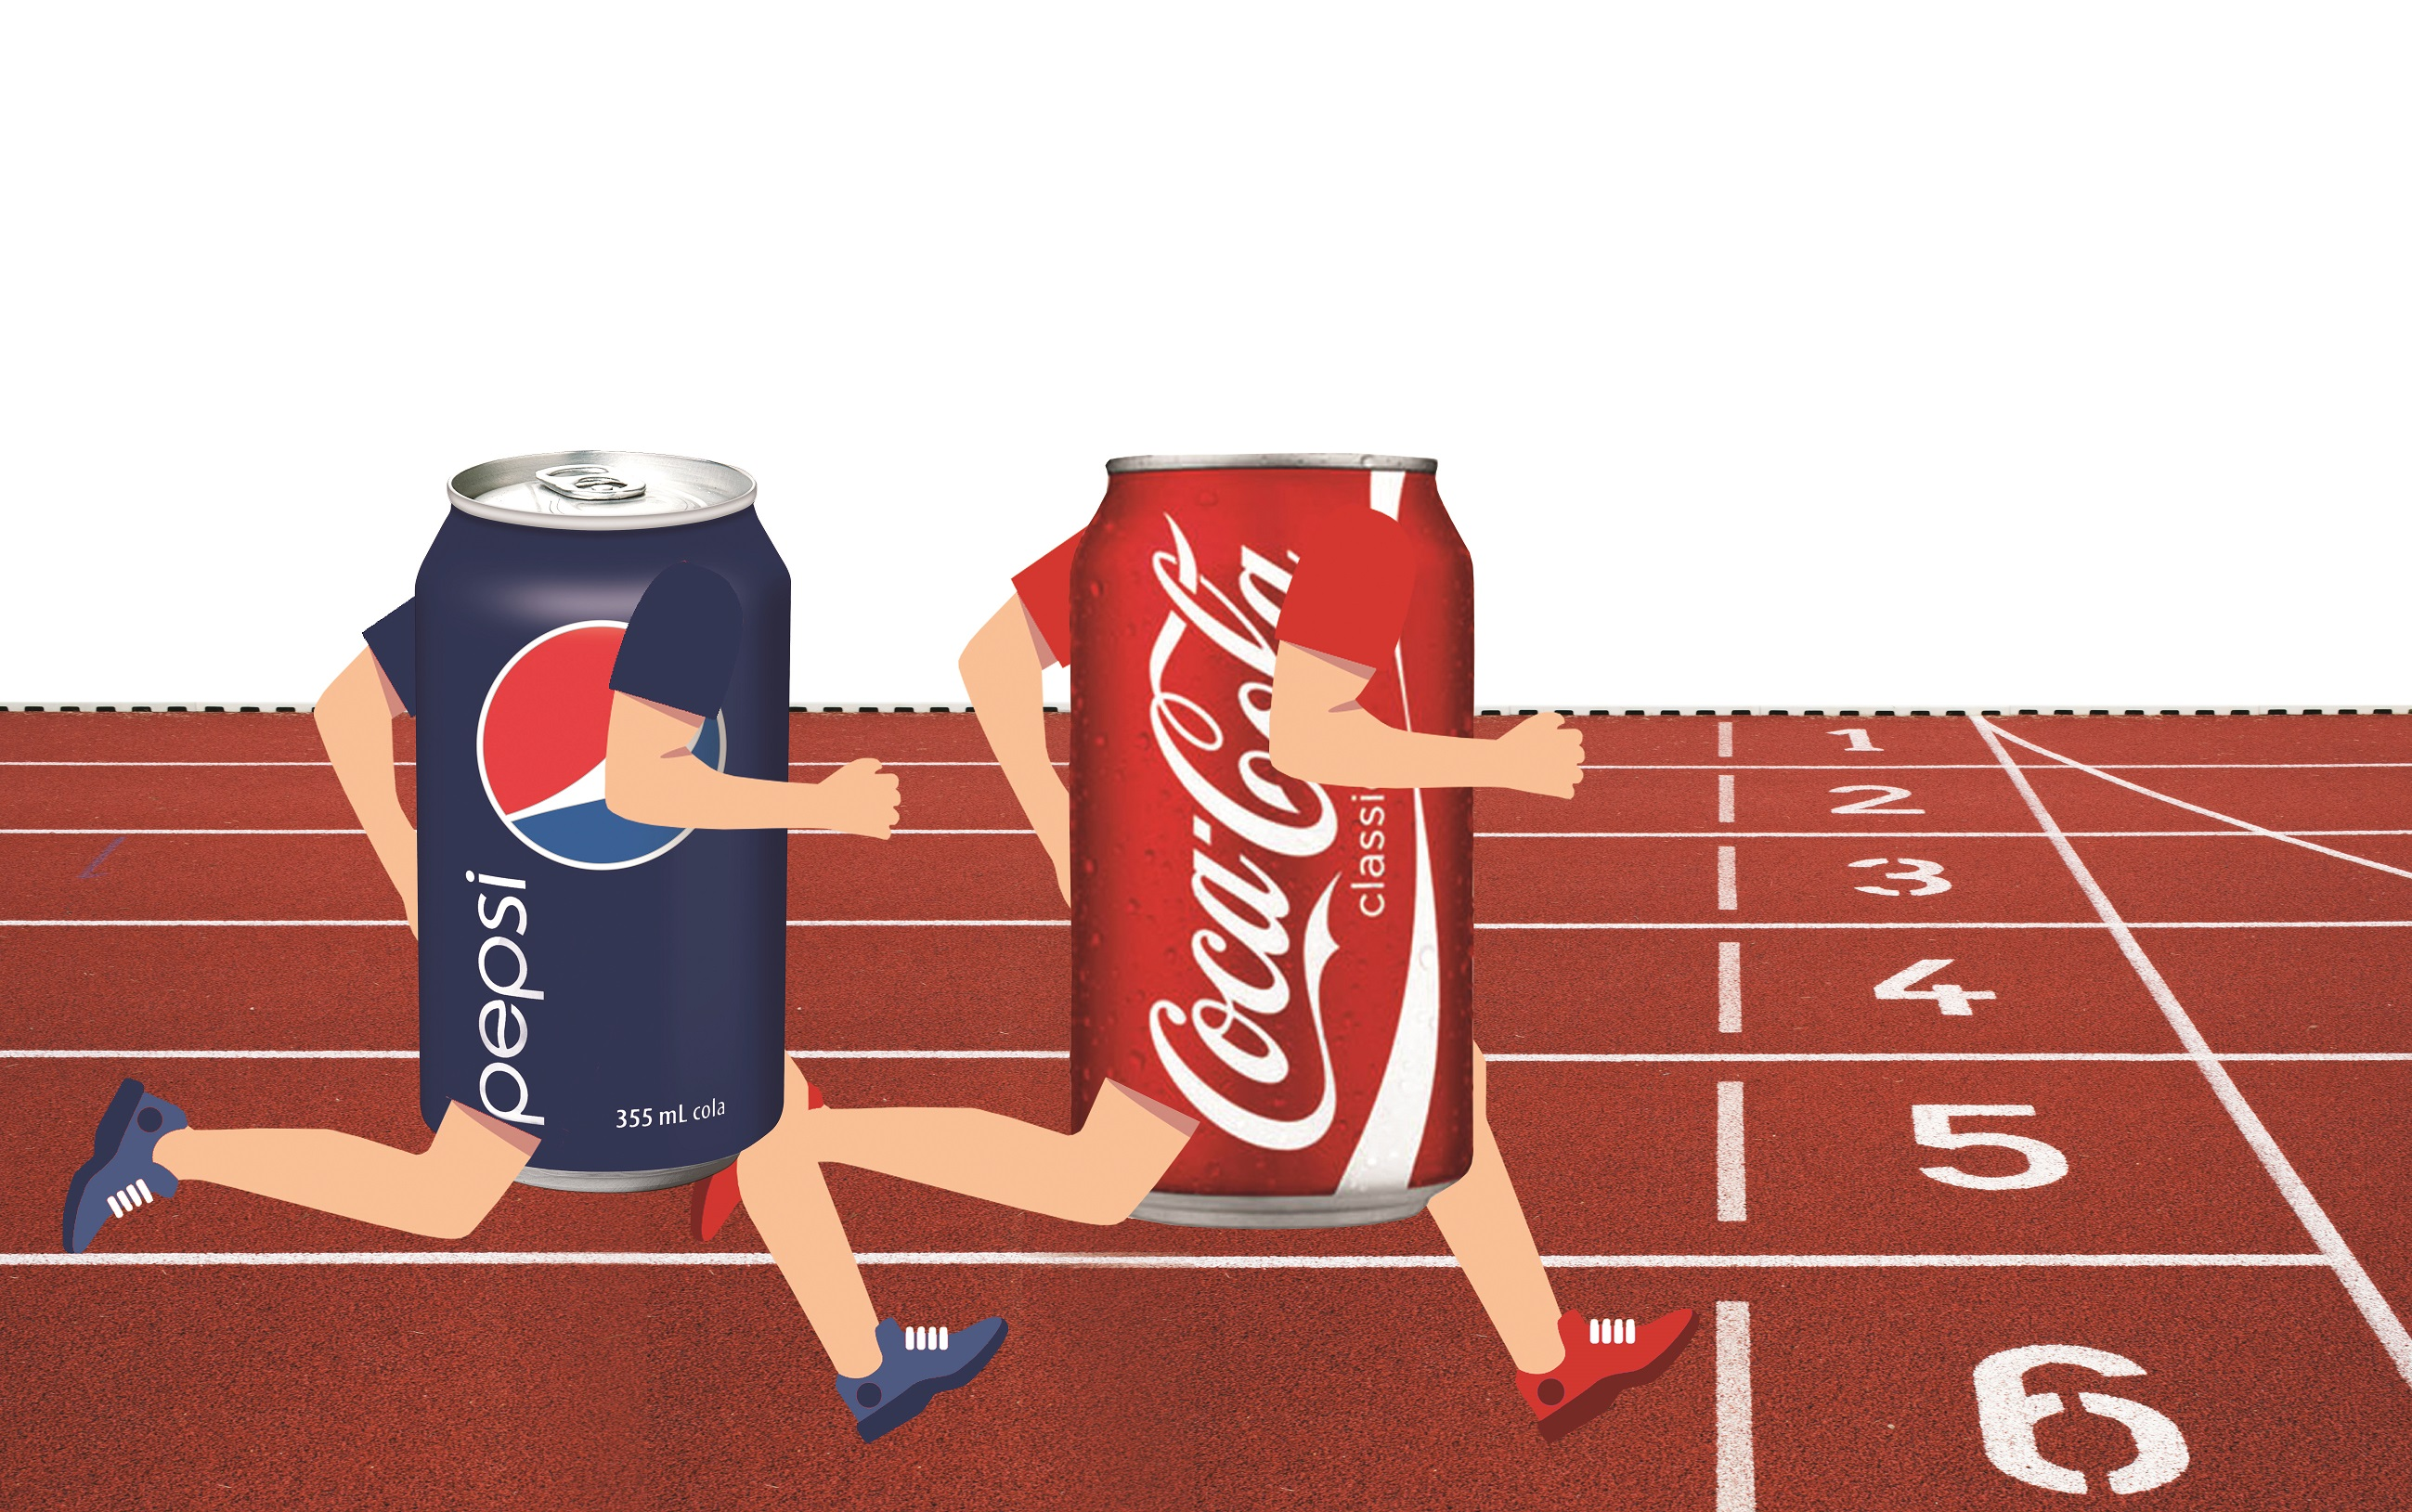Coca-Cola: (1045, 434, 1536, 1233)
Pepsi: (404, 474, 817, 1185)
